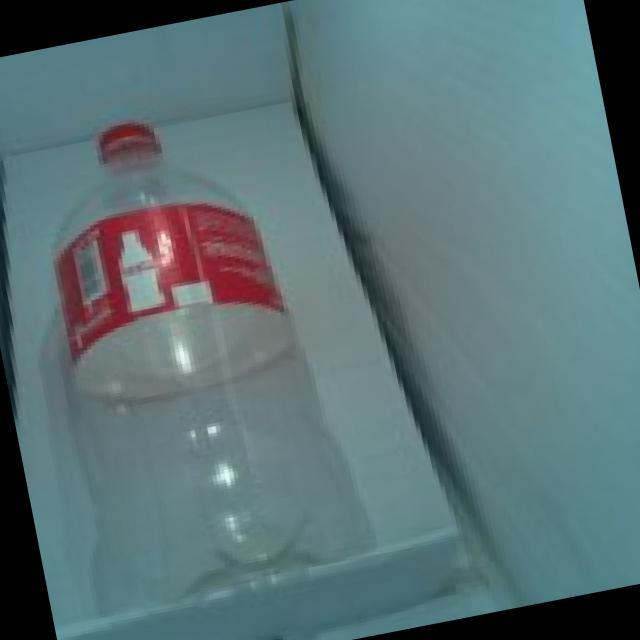good: (12, 62, 390, 615)
